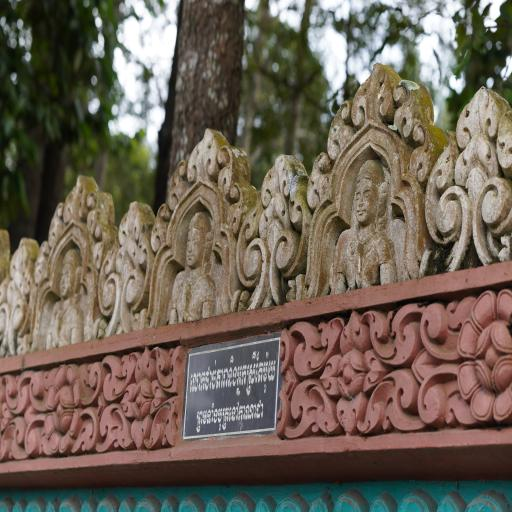hoa: (320, 307, 388, 435), (454, 291, 512, 426), (43, 358, 89, 456), (122, 354, 166, 448)
la: (434, 80, 512, 267), (234, 142, 304, 296), (98, 198, 162, 341), (0, 224, 41, 357), (365, 371, 425, 435), (284, 381, 341, 439), (370, 306, 424, 366), (351, 51, 390, 129), (289, 321, 343, 375), (420, 304, 462, 367), (184, 123, 226, 182), (416, 366, 460, 421), (412, 114, 445, 178), (393, 73, 422, 145), (152, 346, 194, 394), (220, 139, 252, 200), (2, 372, 46, 416), (1, 418, 44, 462), (150, 399, 186, 450), (325, 98, 355, 152), (99, 404, 130, 454), (160, 156, 189, 208), (306, 151, 332, 209), (67, 168, 93, 222), (102, 354, 129, 400), (88, 185, 112, 231), (80, 364, 106, 405), (78, 410, 102, 454), (96, 218, 116, 266), (50, 190, 66, 247), (228, 178, 248, 220), (35, 238, 51, 286)
than: (334, 150, 400, 294), (166, 202, 226, 322), (48, 245, 90, 349)
